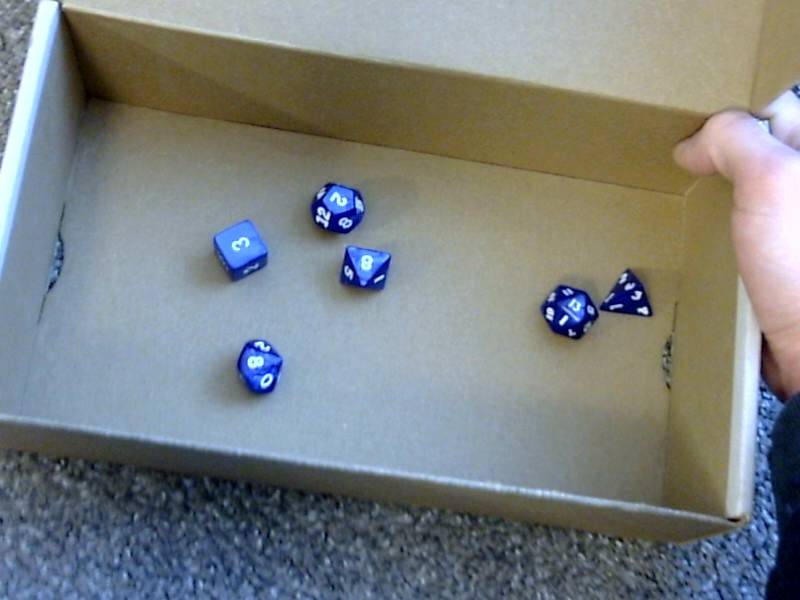d10 8: (229, 333, 284, 398)
d12 2: (310, 174, 363, 238)
d20 13: (537, 281, 599, 341)
d4 3: (596, 252, 656, 327)
d6 3: (208, 215, 271, 287)
d8 8: (333, 242, 393, 294)
